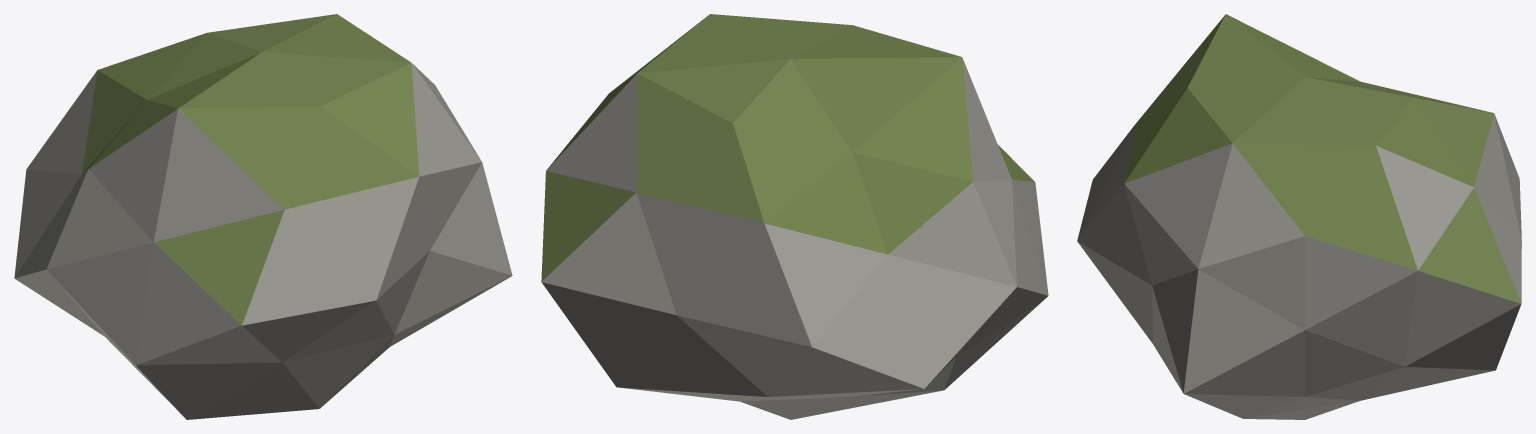
The model's file is iwa_s.glb.
3 renders of one model, left to right at view 1: azimuth 30°, elevation 25°; view 2: azimuth 150°, elevation 25°; view 3: azimuth 270°, elevation 25°, orthographic. The views are drawn at different scales.
Visible parts, largest first — view 1: iwa_s; view 2: iwa_s; view 3: iwa_s.
Boxes of the visible parts, box(x1,y1,x2,y2) form: iwa_s: box(14, 14, 512, 419); iwa_s: box(541, 14, 1048, 419); iwa_s: box(1077, 14, 1521, 419).
Size of the model in its own units: 0.9734 by 0.7961 by 0.9279.
